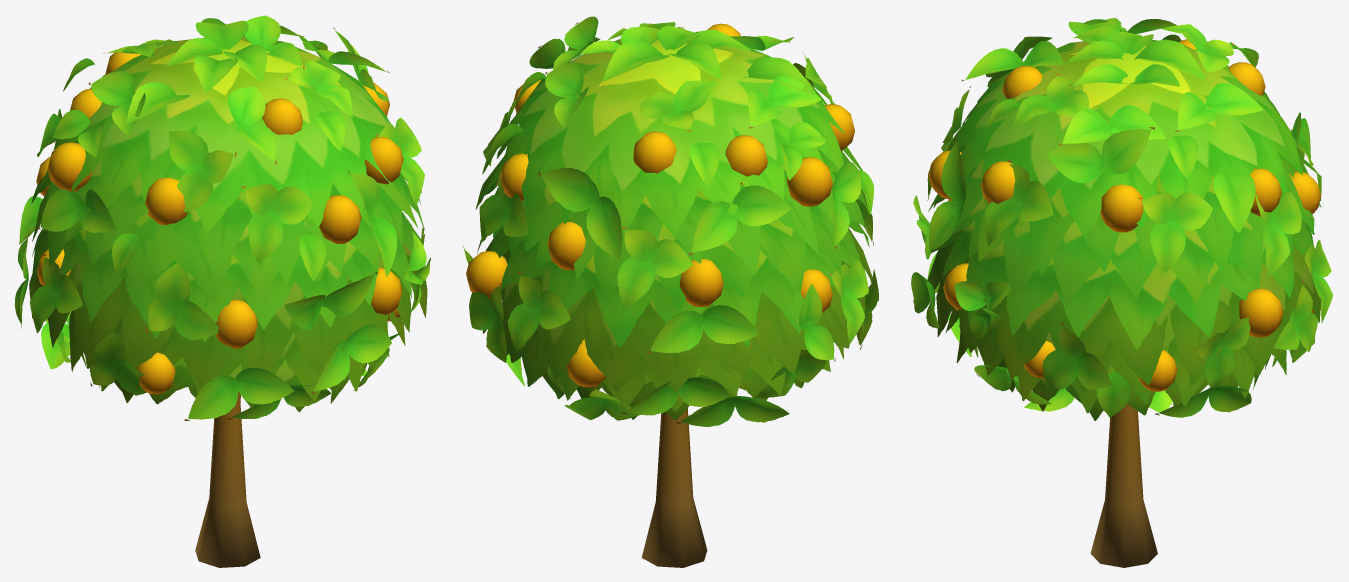
Rendered from arbol_low.glb.
3 views of the same model, side by side, from view 1: azimuth 30°, elevation 25°; view 2: azimuth 150°, elevation 25°; view 3: azimuth 270°, elevation 25° (orthographic).
Parts seen in each view (by area): view 1: hojas, naranjas, arbol; view 2: hojas, naranjas, arbol; view 3: hojas, naranjas, arbol.
Part boxes in pixels (x1=…): hojas: x1=14, y1=15, x2=430, y2=420; naranjas: x1=36, y1=52, x2=403, y2=394; arbol: x1=195, y1=392, x2=260, y2=567; hojas: x1=462, y1=16, x2=878, y2=426; naranjas: x1=466, y1=23, x2=854, y2=387; arbol: x1=641, y1=408, x2=707, y2=567; hojas: x1=911, y1=18, x2=1332, y2=420; naranjas: x1=928, y1=39, x2=1321, y2=391; arbol: x1=1090, y1=403, x2=1157, y2=567.
Bounding box in the file's own units: 1.97 × 2.6 × 1.96.
1 material, 1 textured.
